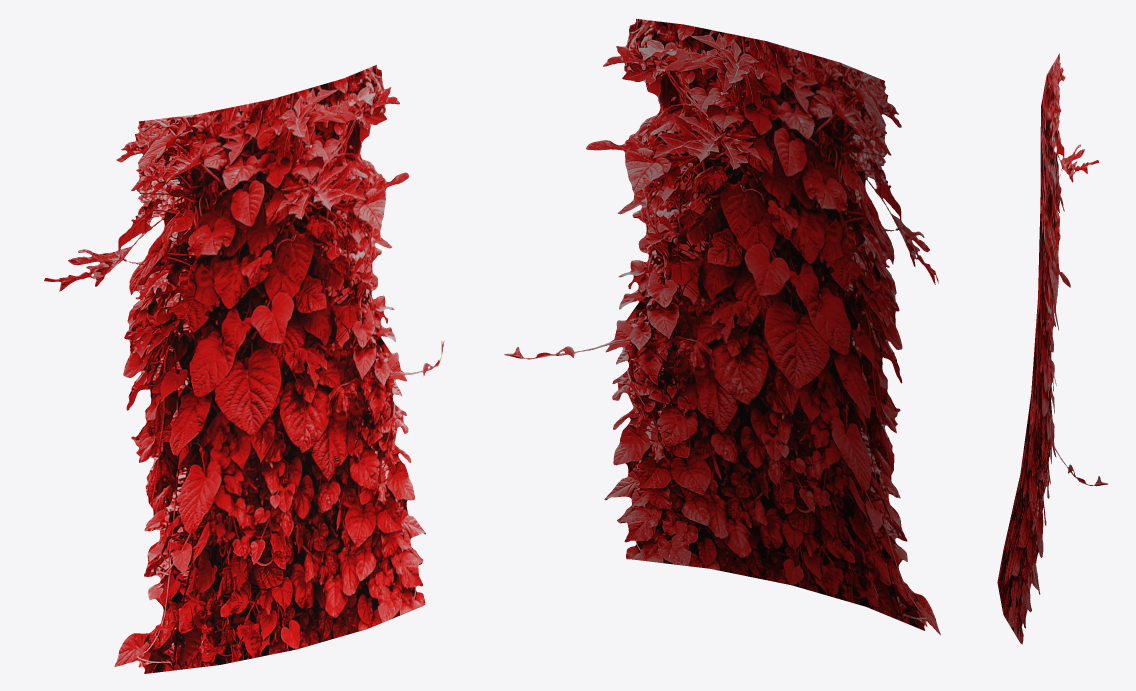
Rendered from Ivy_08.fbx.
3 renders of one model, left to right at view 1: azimuth 30°, elevation 25°; view 2: azimuth 150°, elevation 25°; view 3: azimuth 270°, elevation 25°, orthographic. The views are drawn at different scales.
Visible parts, largest first — view 1: Cylinder002; view 2: Cylinder002; view 3: Cylinder002.
Part boxes in pixels (<box>): Cylinder002: <box>44,65,444,673</box>; Cylinder002: <box>504,19,940,635</box>; Cylinder002: <box>997,53,1108,644</box>.
Size of the model in its own units: 414 by 118 by 497.
